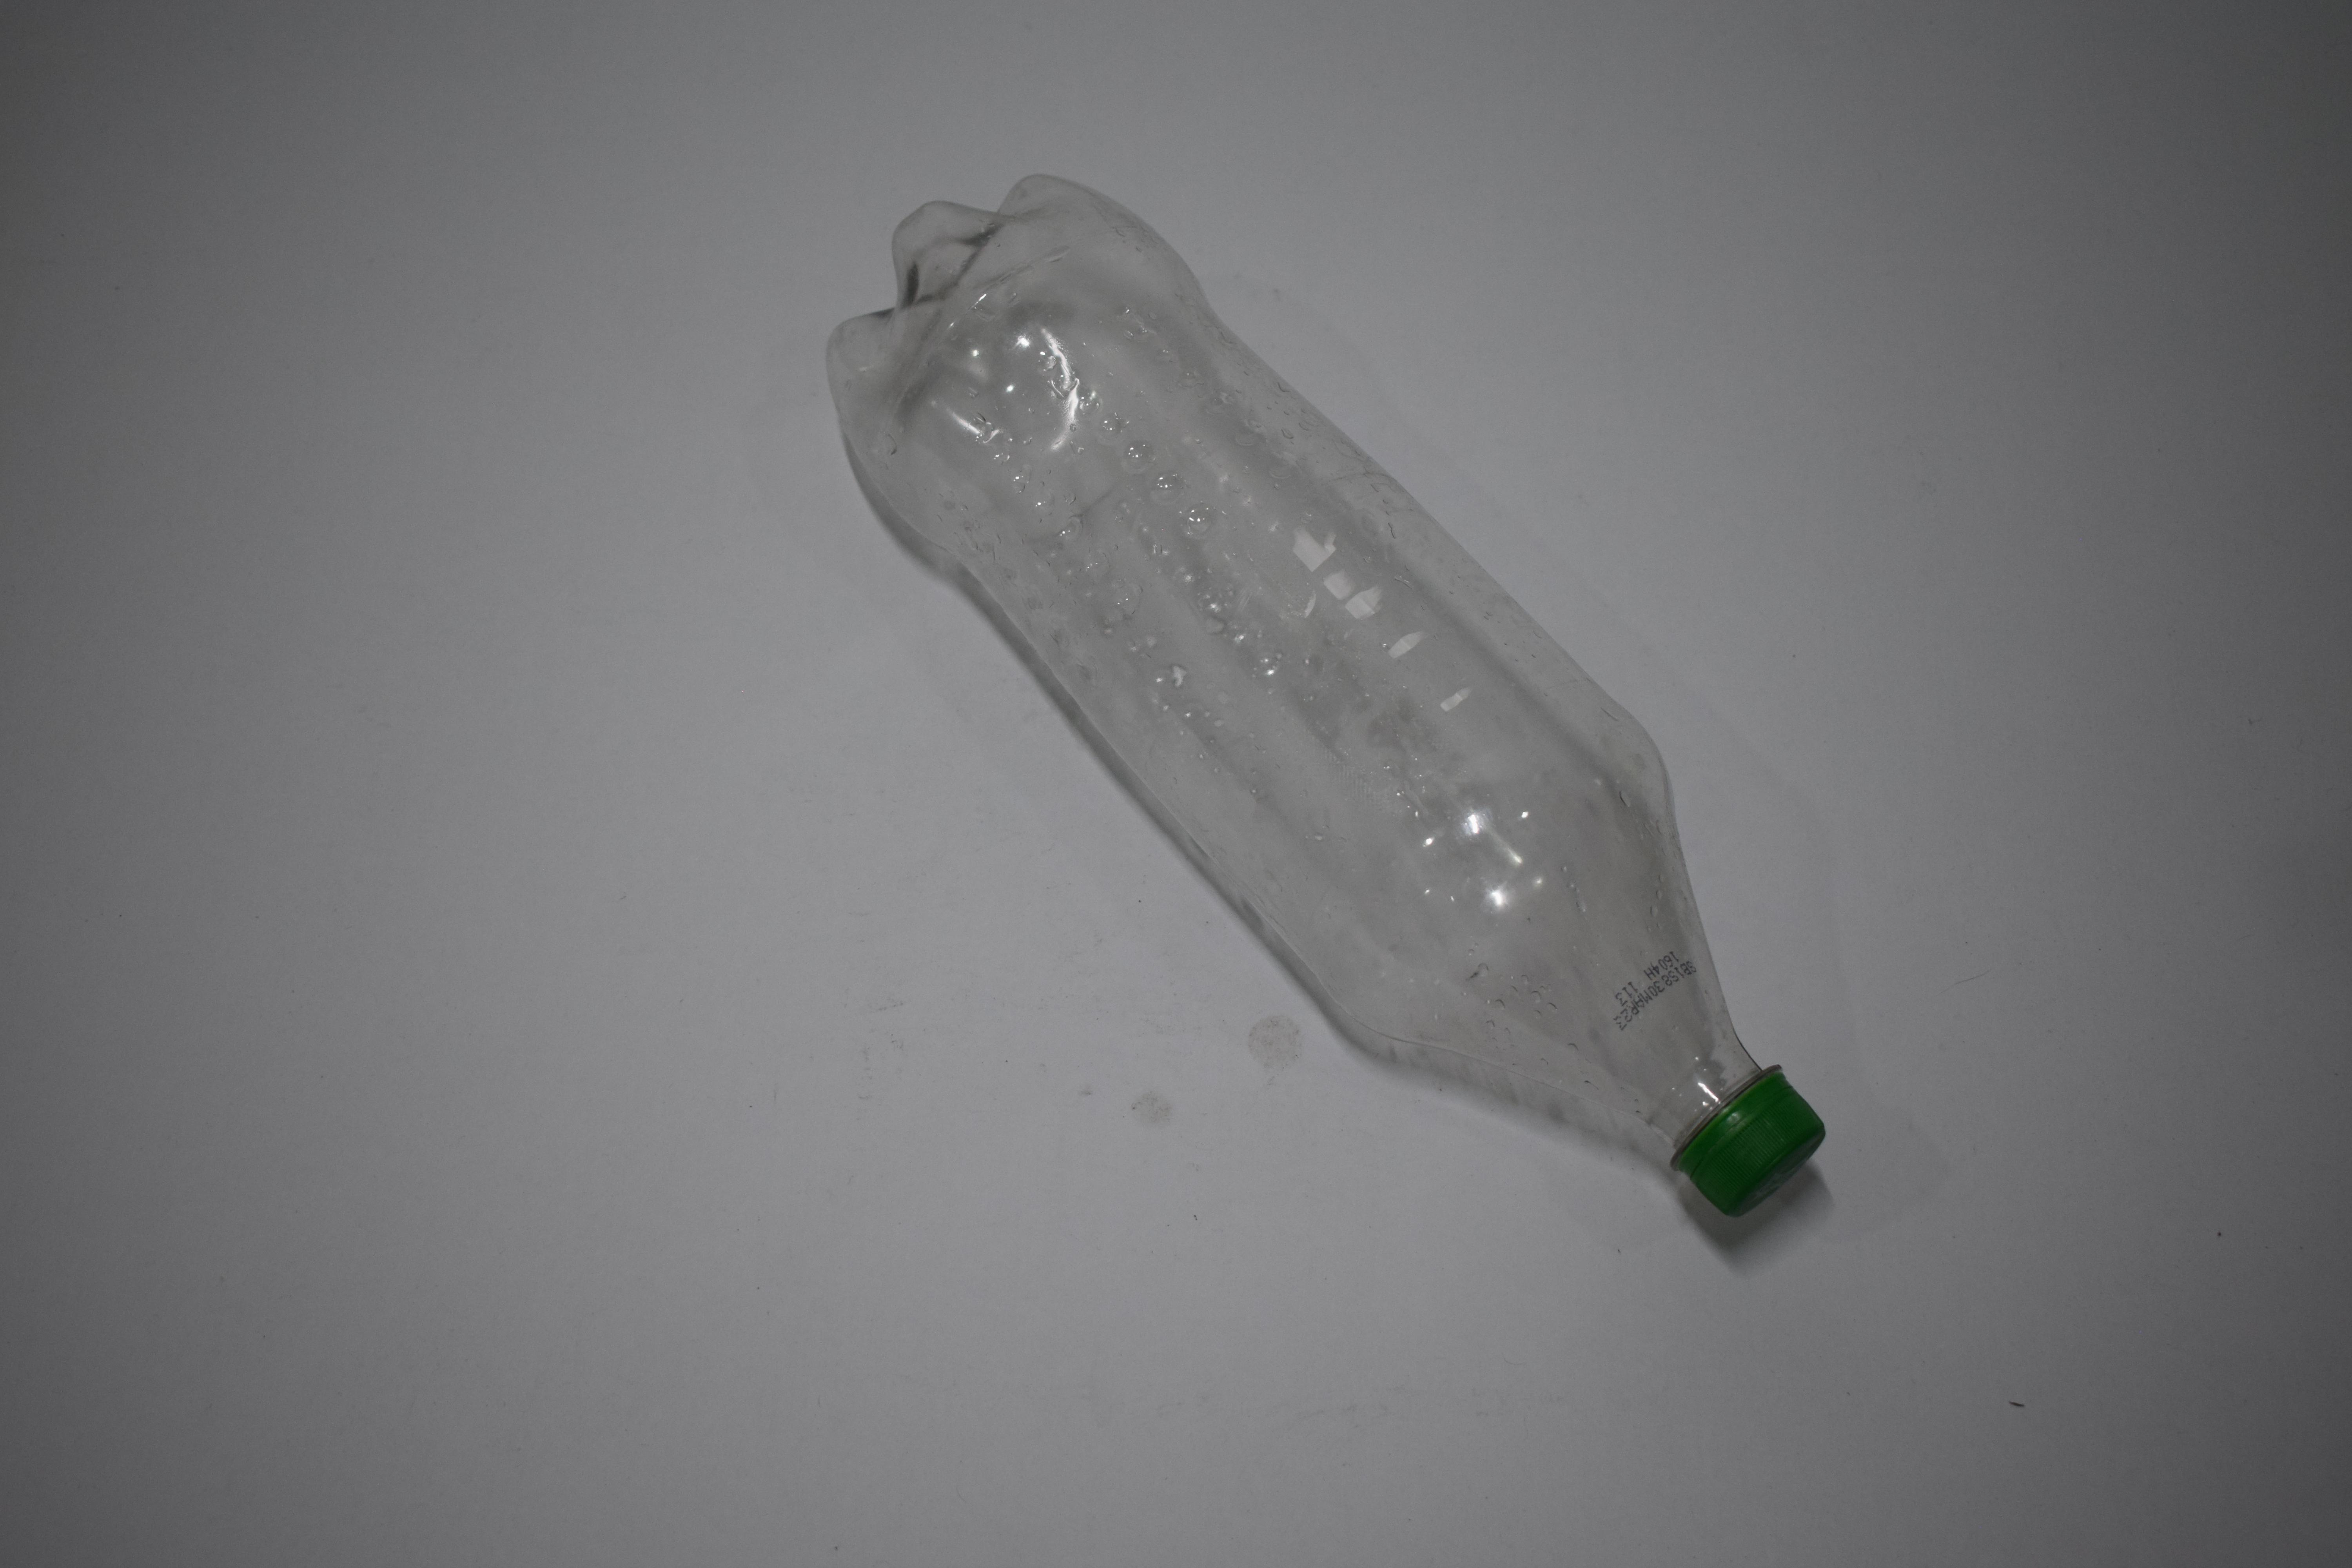bottle: (0, 157, 654, 1223)
